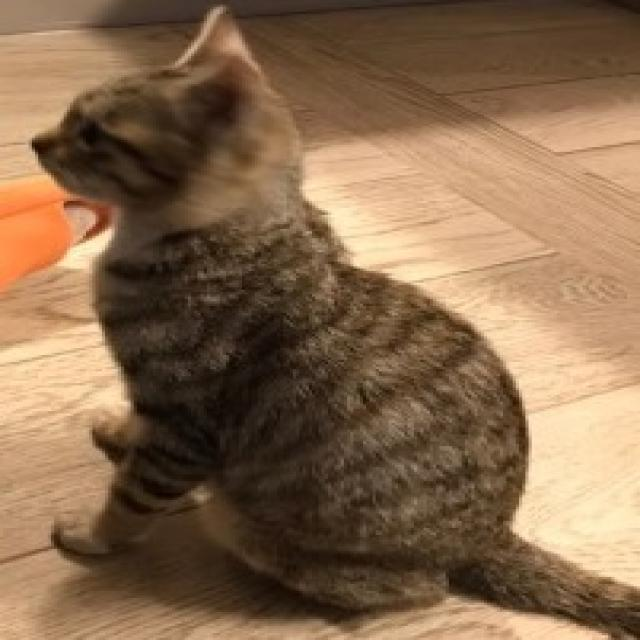cat: (28, 2, 640, 639)
